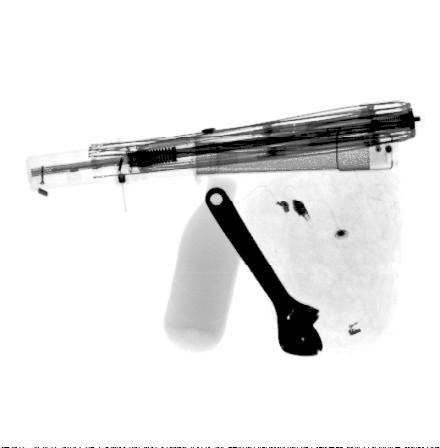Wrench: (204, 186, 325, 359)
